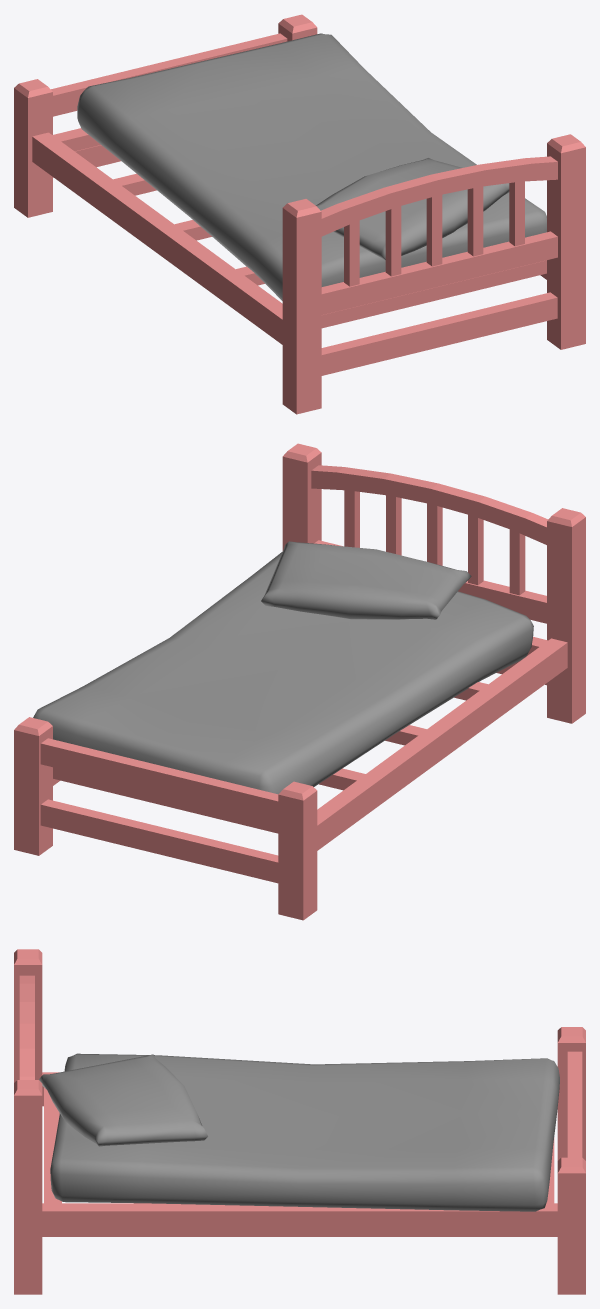
The model's file is Woods_Cabin_Bed.gltf.
3 renders of one model, top to bottom at view 1: azimuth 30°, elevation 25°; view 2: azimuth 150°, elevation 25°; view 3: azimuth 270°, elevation 25°, orthographic.
Parts seen in each view (by area): view 1: Woods_Cabin_Bed; view 2: Woods_Cabin_Bed; view 3: Woods_Cabin_Bed.
Part boxes in pixels (x1,y1,x2,y2): Woods_Cabin_Bed: [14, 14, 585, 414]; Woods_Cabin_Bed: [14, 443, 585, 920]; Woods_Cabin_Bed: [14, 949, 585, 1294].
Bounding box in the file's own units: 3.07 × 1.99 × 5.06.
